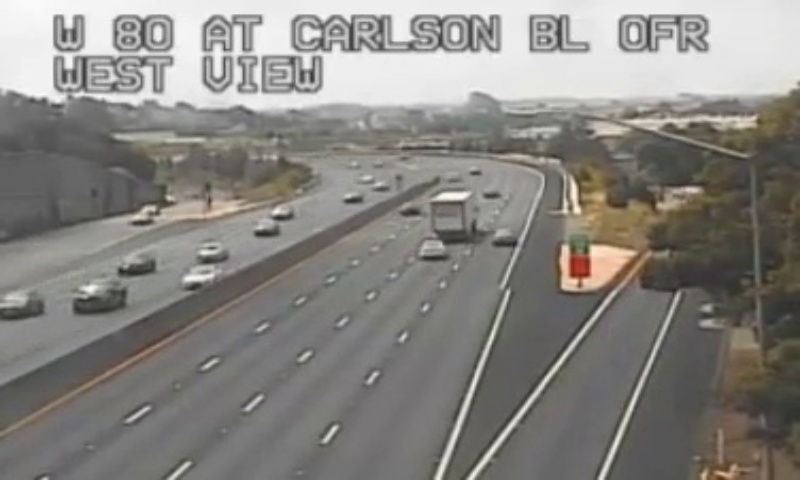car: (418, 239, 447, 257)
truck: (431, 191, 476, 236)
